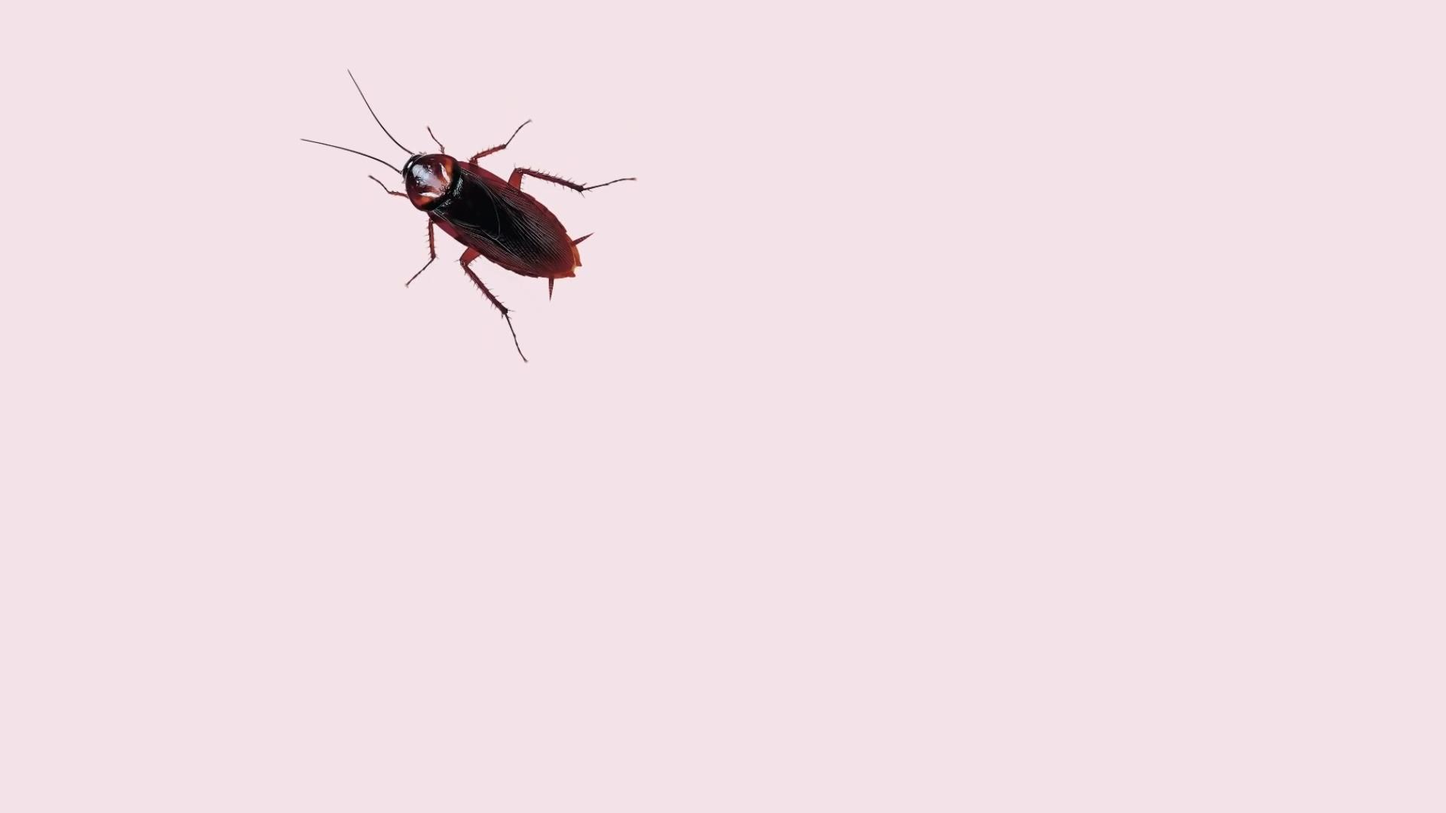cockroach: (291, 64, 641, 371)
